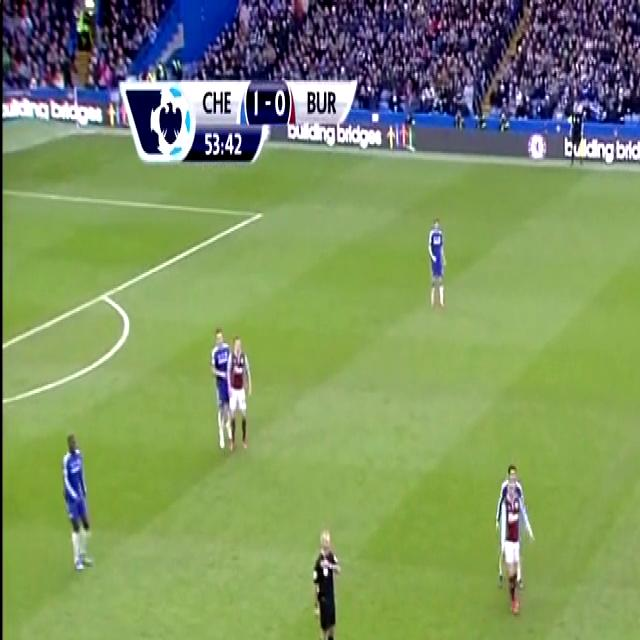referee: (306, 512, 345, 640)
soccer-player: (493, 452, 540, 623), (54, 420, 98, 579), (216, 321, 253, 462), (203, 321, 236, 457), (424, 206, 452, 313)
